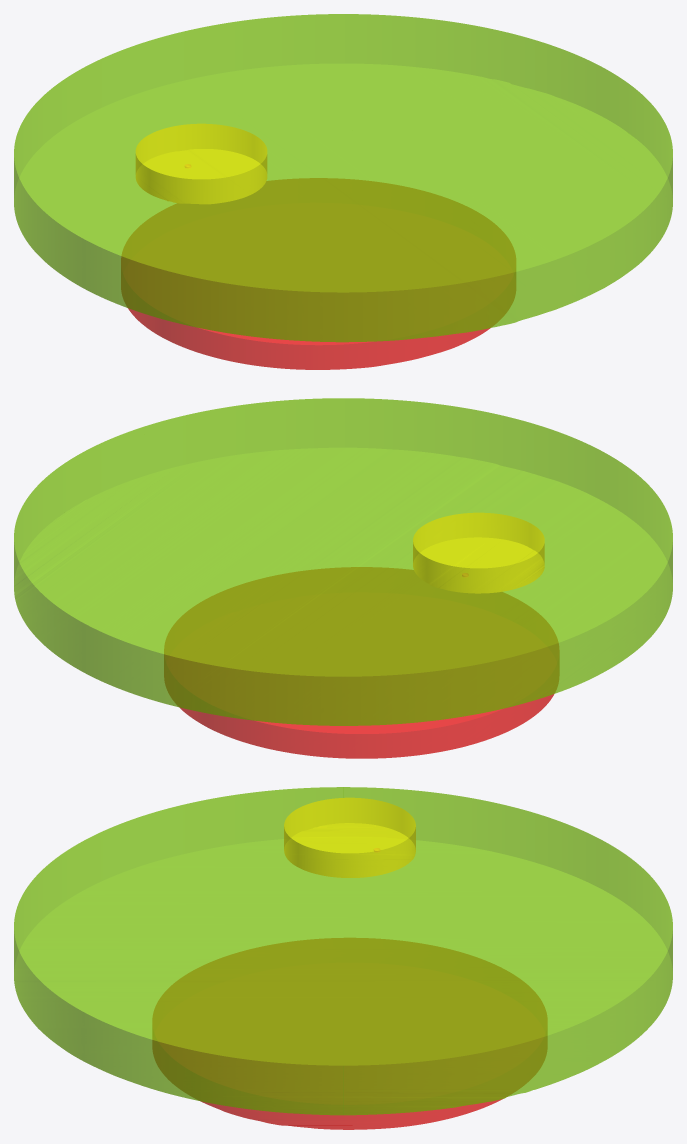
Rendered from YXE_Airspace_ARjs_Test2.glb.
3 views of the same model, one above another, from view 1: azimuth 30°, elevation 25°; view 2: azimuth 150°, elevation 25°; view 3: azimuth 270°, elevation 25° (orthographic).
Visible parts, largest first — view 1: material_from_multipatch, material_from_multipatch.001, material_from_multipatch.002; view 2: material_from_multipatch, material_from_multipatch.001, material_from_multipatch.002; view 3: material_from_multipatch, material_from_multipatch.001, material_from_multipatch.002.
Boxes of the visible parts, x1=… form: material_from_multipatch: x1=14, y1=14, x2=672, y2=342; material_from_multipatch.001: x1=121, y1=178, x2=515, y2=369; material_from_multipatch.002: x1=135, y1=123, x2=267, y2=204; material_from_multipatch: x1=14, y1=398, x2=672, y2=725; material_from_multipatch.001: x1=164, y1=567, x2=558, y2=758; material_from_multipatch.002: x1=413, y1=512, x2=544, y2=593; material_from_multipatch: x1=14, y1=787, x2=672, y2=1115; material_from_multipatch.001: x1=153, y1=938, x2=546, y2=1129; material_from_multipatch.002: x1=284, y1=797, x2=415, y2=877.
Size of the model in its own units: 18520 by 5100 by 18520.
